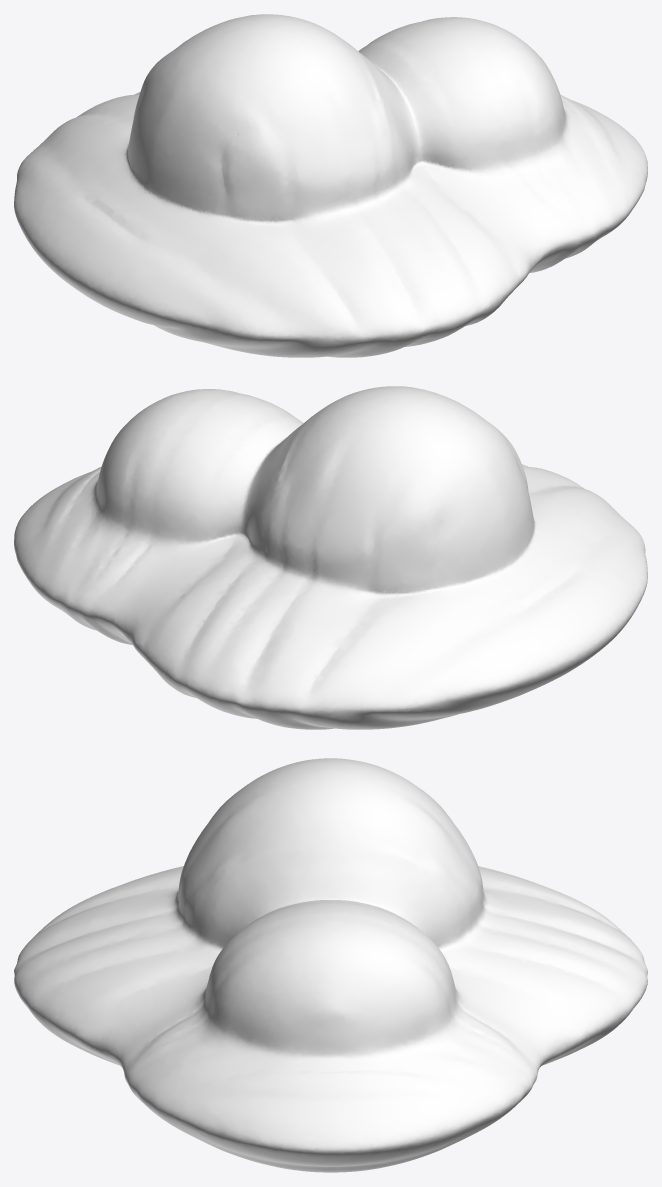
The model's file is meshy-white-cloud.glb.
The picture shows the model from 3 angles, top to bottom: view 1: azimuth 30°, elevation 25°; view 2: azimuth 150°, elevation 25°; view 3: azimuth 270°, elevation 25°; orthographic projection. The views are drawn at different scales.
Bounding box in the file's own units: 1.9 × 0.875 × 1.78.
1 material, 1 textured.
